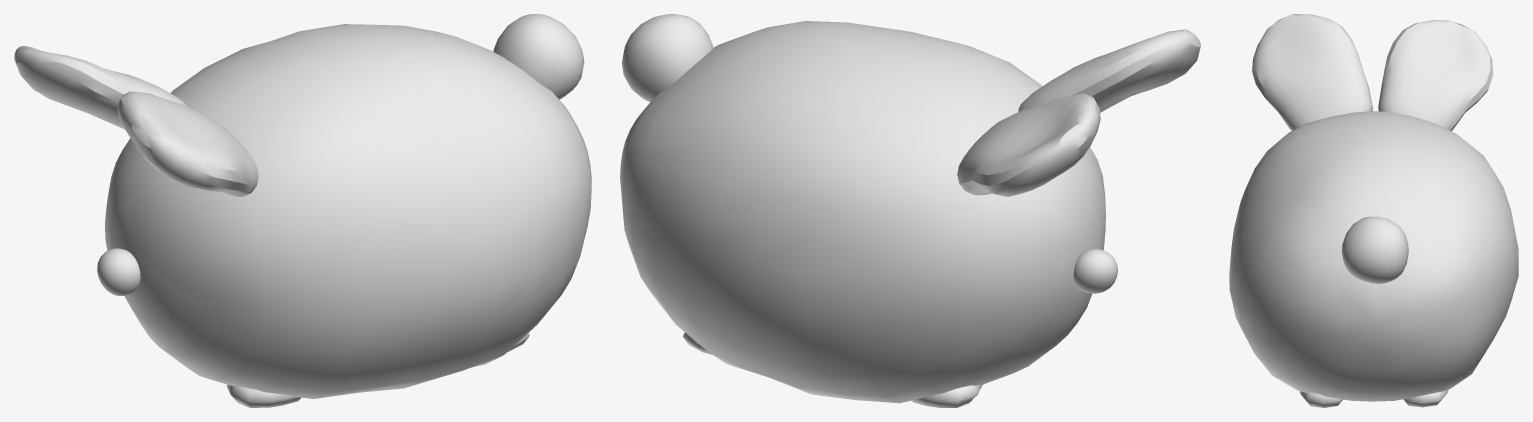
The model's file is bunny_plush_blue.fbx.
The picture shows the model from 3 angles, left to right: view 1: azimuth 30°, elevation 25°; view 2: azimuth 150°, elevation 25°; view 3: azimuth 270°, elevation 25°; orthographic projection. The views are drawn at different scales.
Parts seen in each view (by area): view 1: bunny_plush_blue; view 2: bunny_plush_blue; view 3: bunny_plush_blue.
Boxes of the visible parts, bbox=[...] form: bunny_plush_blue: bbox=[14, 14, 591, 407]; bunny_plush_blue: bbox=[620, 14, 1200, 407]; bunny_plush_blue: bbox=[1229, 14, 1518, 407].
Size of the model in its own units: 0.9649 by 0.6336 by 0.644.
Materials: 2 (1 with a texture image).
